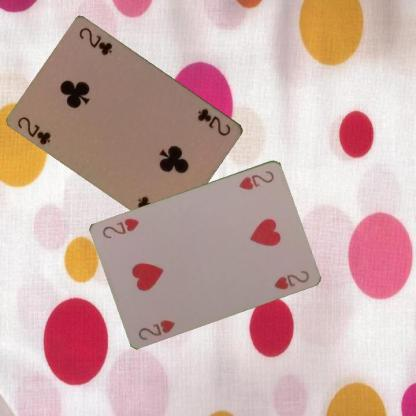2c: (15, 114, 53, 147), (195, 105, 232, 138)
2h: (136, 316, 177, 341), (235, 167, 276, 191)
